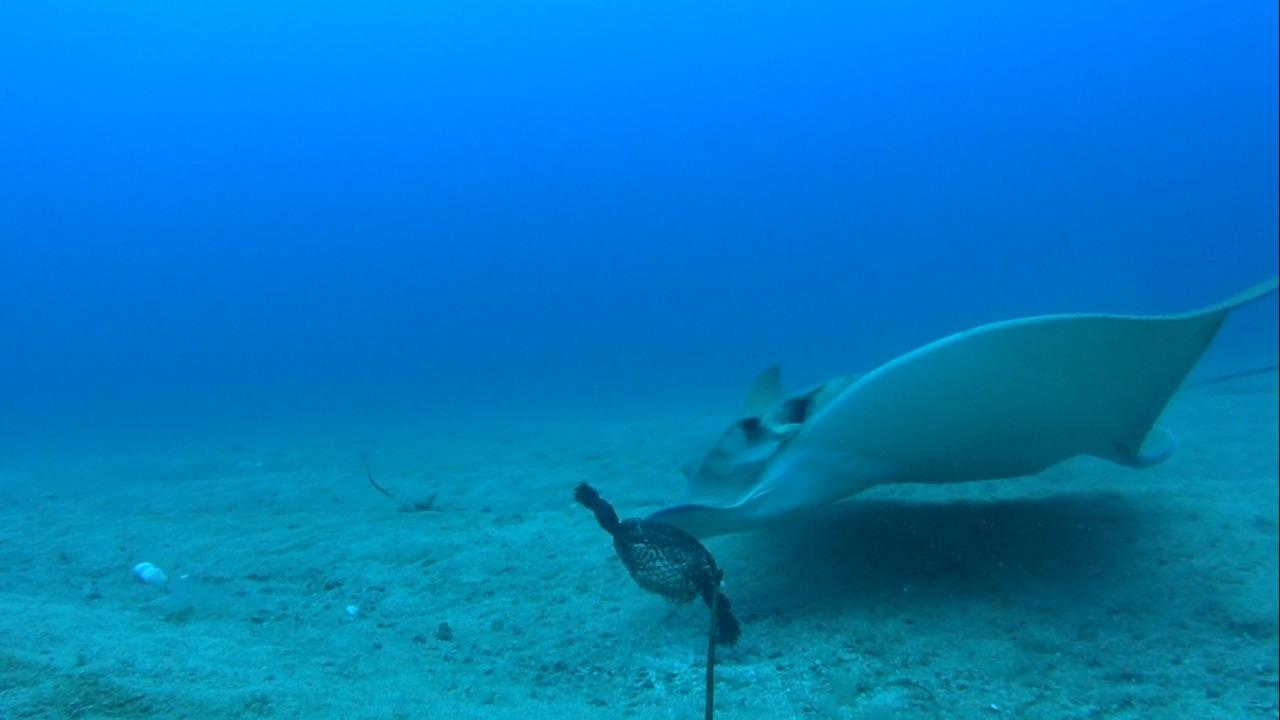myliobatis: (636, 268, 1279, 546)
